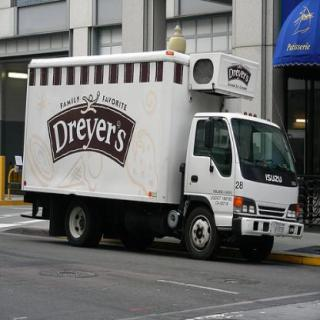Normal_vehicle: (16, 44, 306, 261)
